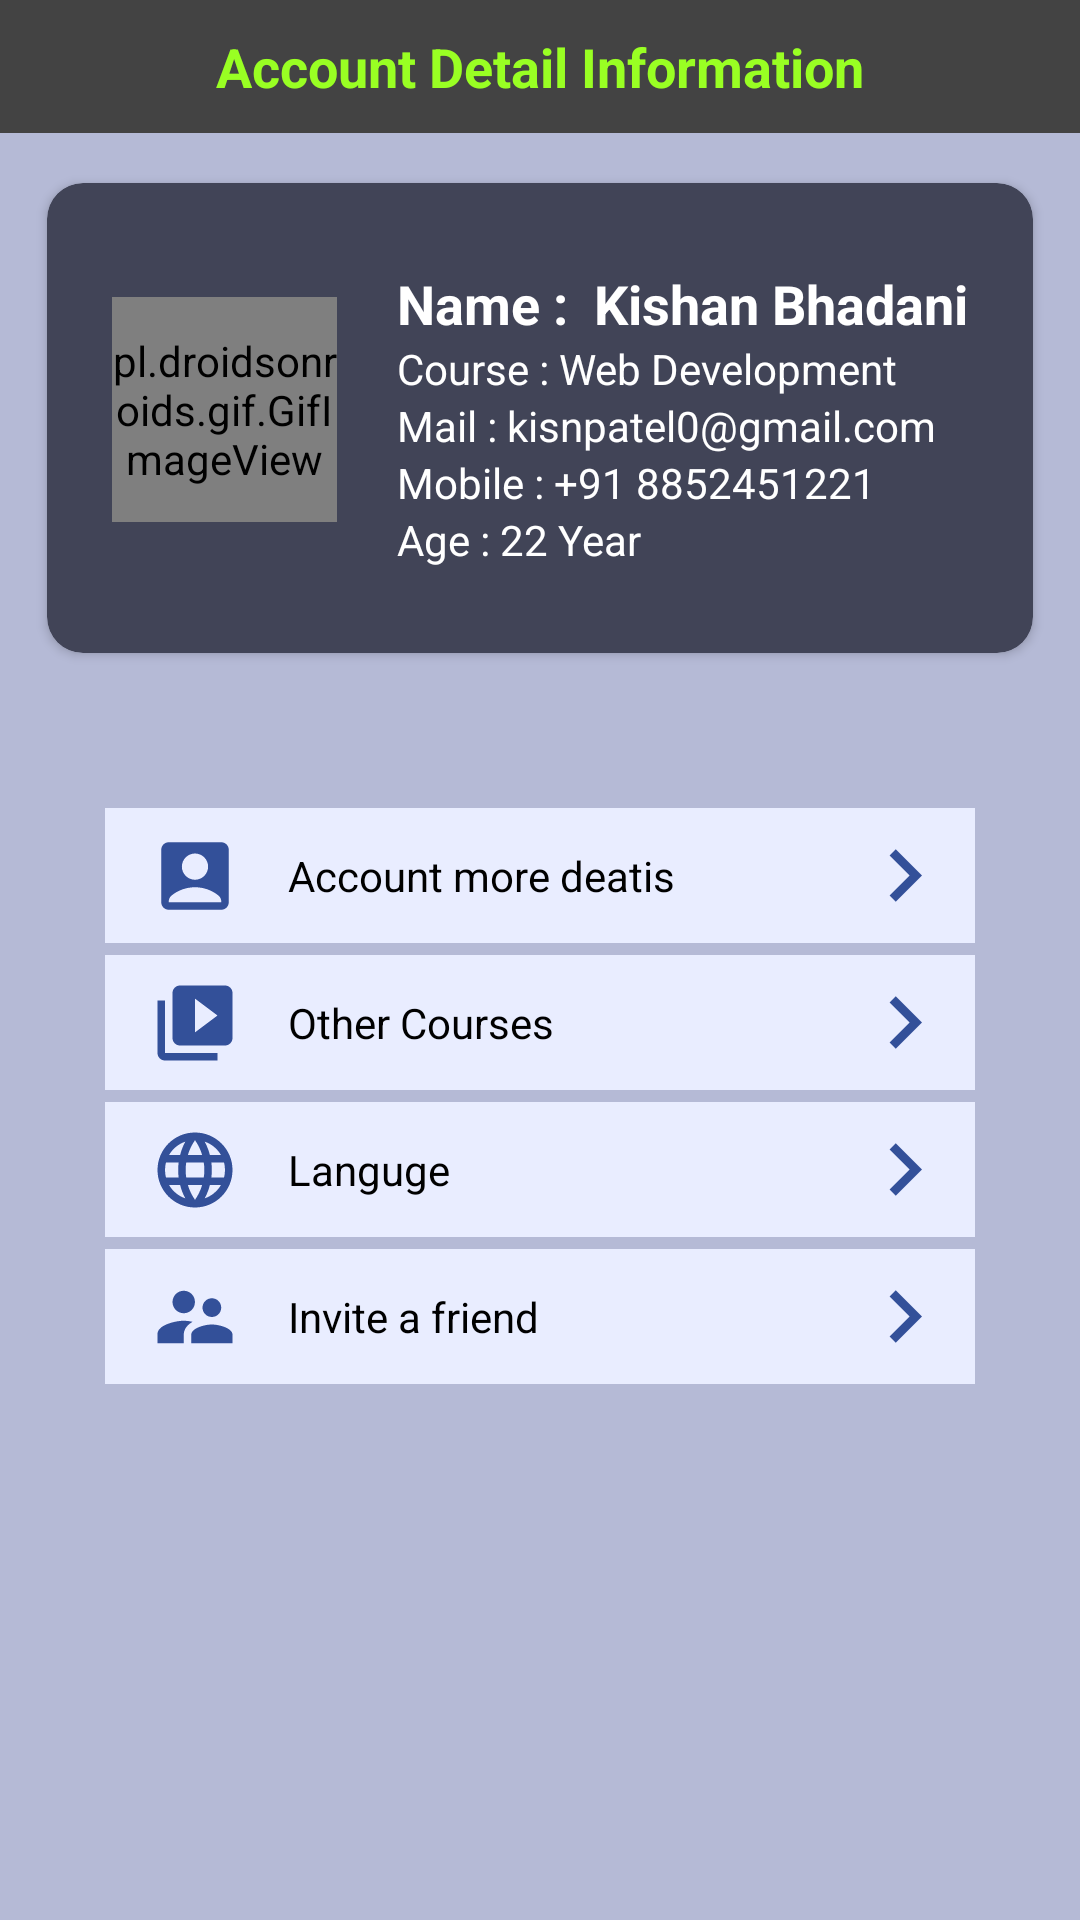

Point at icon controls on the screen. Image size 1080px x 1920px, points as [x,y].
account sec rightarrow: [905,875], [905,1022], [905,1169], [905,1316]
